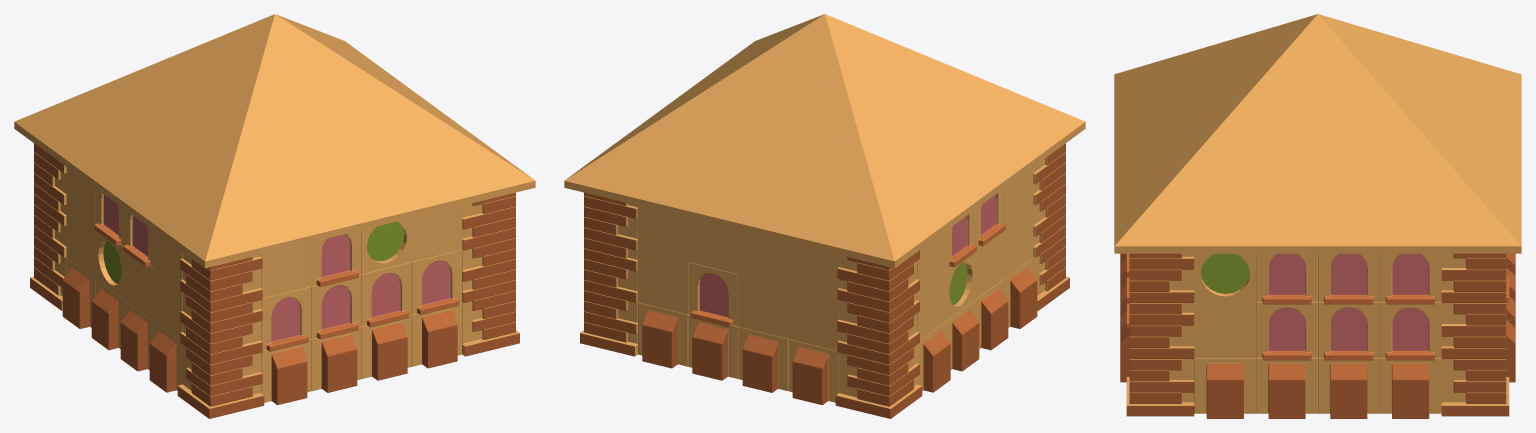
File: house v3.003.fbx
The picture shows the model from 3 angles, left to right: view 1: azimuth 30°, elevation 25°; view 2: azimuth 150°, elevation 25°; view 3: azimuth 270°, elevation 25°; orthographic projection. The views are drawn at different scales.
Visible parts, largest first — view 1: House; view 2: House; view 3: House.
Part boxes in pixels (x1,y1,x2,y2): House: (14, 14, 535, 418); House: (564, 14, 1085, 418); House: (1114, 14, 1521, 418).
Size of the model in its own units: 659 by 575 by 659.
